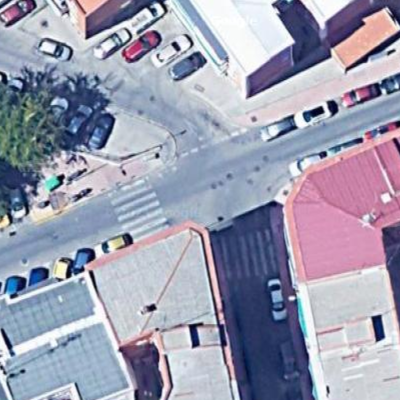tree: (1, 77, 67, 176)
